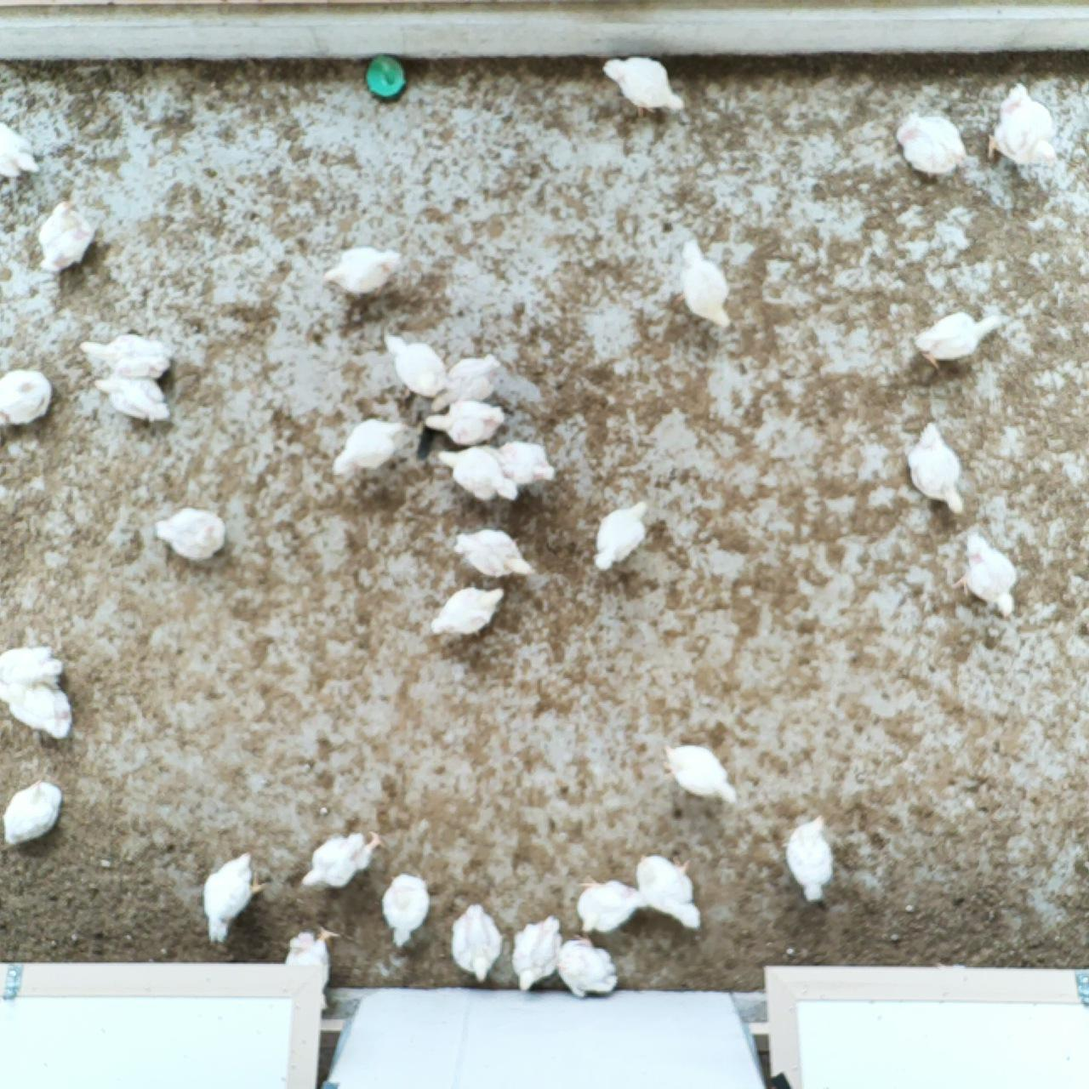chicken: (982, 77, 1064, 179), (200, 849, 271, 945), (299, 825, 389, 900), (951, 529, 1021, 623), (888, 106, 972, 181), (905, 420, 967, 520), (910, 307, 1005, 372), (635, 847, 706, 933), (671, 238, 737, 330), (776, 807, 837, 906), (280, 921, 344, 1015), (600, 53, 685, 123), (659, 740, 742, 811), (328, 417, 413, 482), (452, 525, 539, 586), (434, 449, 522, 508), (76, 330, 176, 381), (36, 198, 101, 276), (0, 775, 68, 848), (447, 900, 505, 985), (555, 929, 623, 1001), (0, 680, 76, 744), (428, 351, 505, 414), (575, 870, 646, 938), (509, 912, 569, 992), (382, 334, 451, 403), (429, 583, 509, 641), (592, 499, 654, 572), (322, 244, 405, 298), (155, 503, 228, 563), (422, 397, 508, 447), (92, 374, 175, 425), (386, 872, 435, 949), (483, 441, 560, 487), (0, 367, 56, 430), (0, 641, 66, 693), (0, 118, 43, 182)
